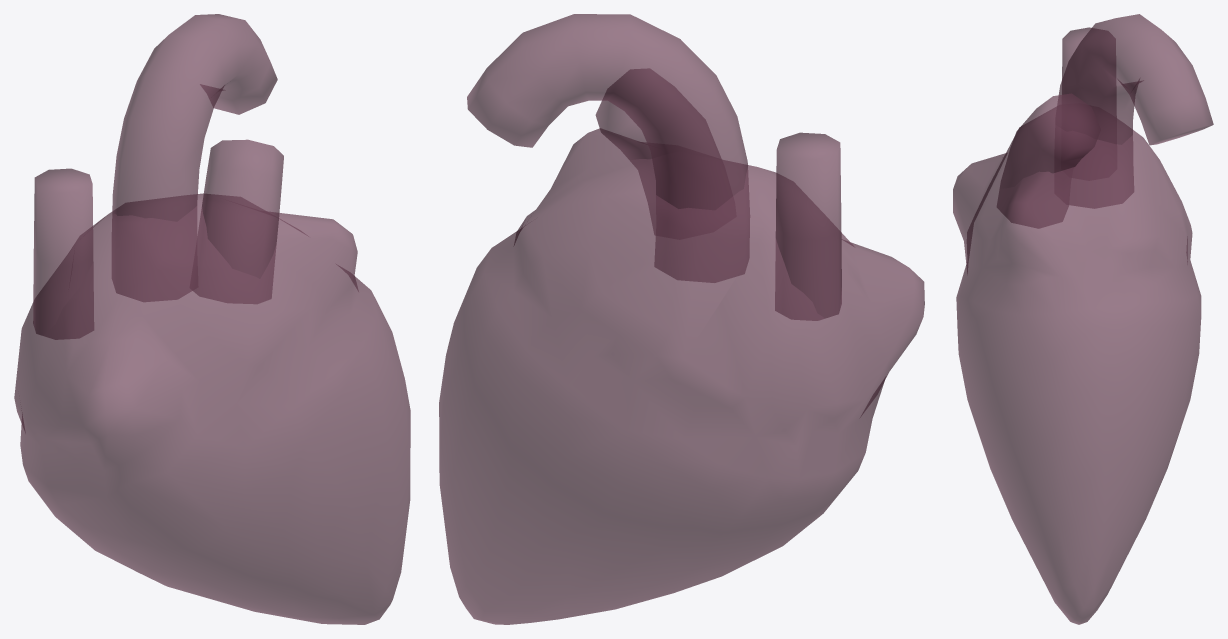
Rendered from s2_heart_icon.glb.
3 views of the same model, side by side, from view 1: azimuth 30°, elevation 25°; view 2: azimuth 150°, elevation 25°; view 3: azimuth 270°, elevation 25° (orthographic). The views are drawn at different scales.
Parts seen in each view (by area): view 1: heart; view 2: heart; view 3: heart.
Boxes of the visible parts, x1,y1,x2,y2 form: heart: [14, 14, 410, 624]; heart: [439, 14, 924, 624]; heart: [953, 14, 1213, 624].
Size of the model in its own units: 0.7862 by 1.2 by 0.5269.
